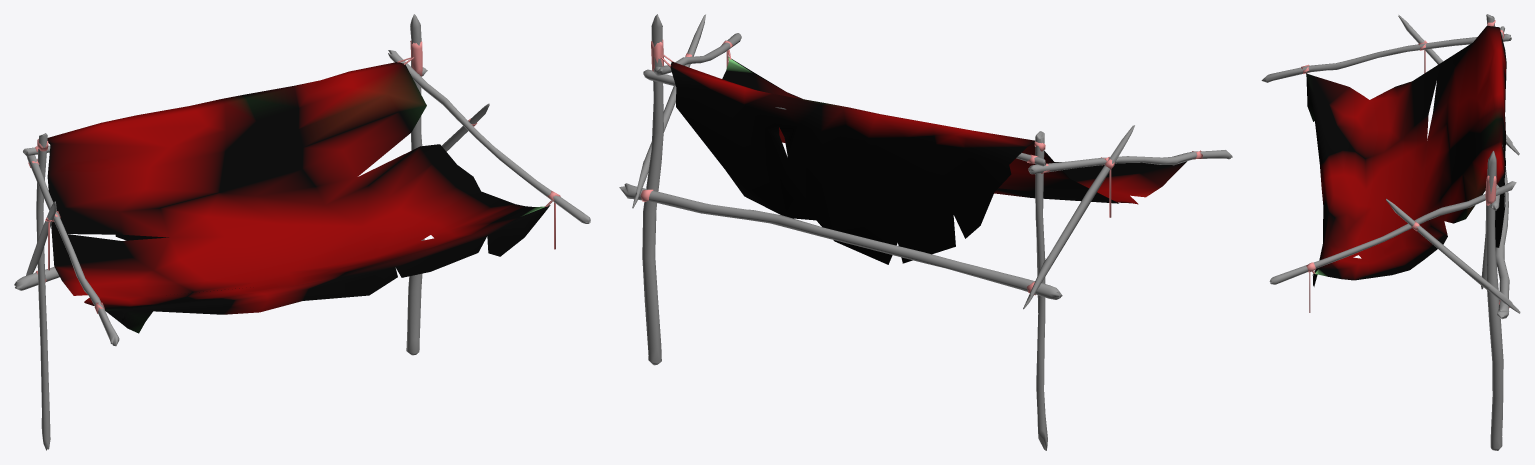
Rendered from tent_wooden_tribals_generic_village_i.gltf.
The picture shows the model from 3 angles, left to right: view 1: azimuth 30°, elevation 25°; view 2: azimuth 150°, elevation 25°; view 3: azimuth 270°, elevation 25°; orthographic projection. The views are drawn at different scales.
Visible parts, largest first — view 1: tent_wooden_tribals_generic_village_i; view 2: tent_wooden_tribals_generic_village_i; view 3: tent_wooden_tribals_generic_village_i.
Part boxes in pixels (x1,y1,x2,y2): tent_wooden_tribals_generic_village_i: [14, 14, 590, 450]; tent_wooden_tribals_generic_village_i: [619, 14, 1232, 450]; tent_wooden_tribals_generic_village_i: [1261, 14, 1520, 450].
Bounding box in the file's own units: 6.42 × 4.34 × 3.39.
